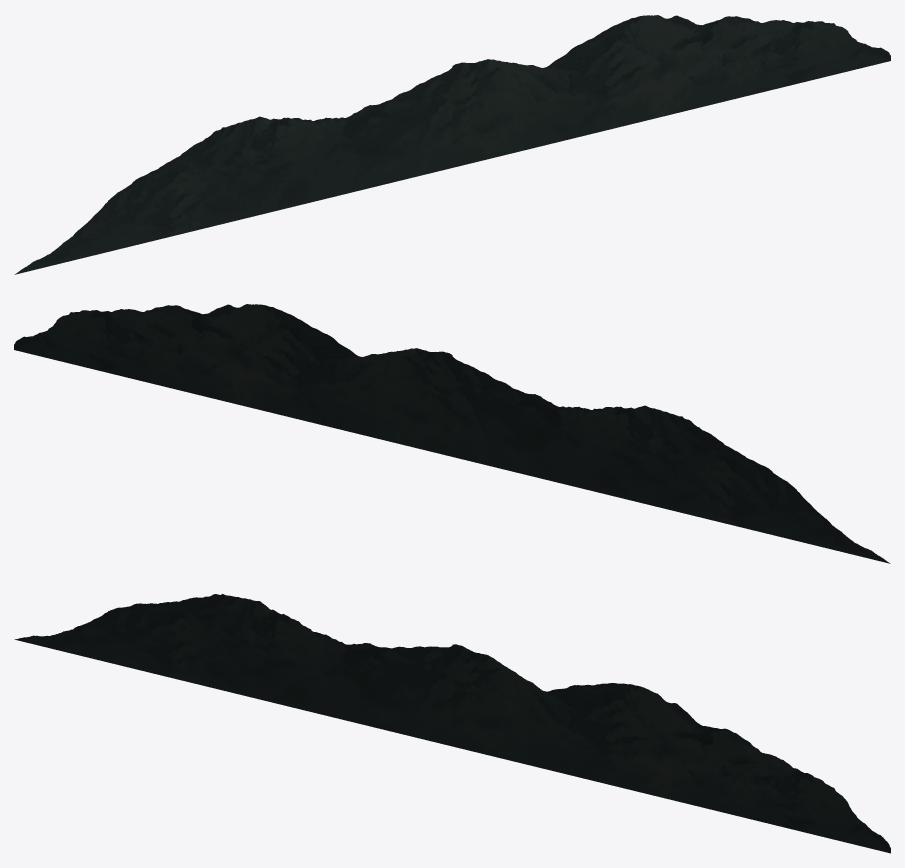
Rendered from Hill_Far1.fbx.
The picture shows the model from 3 angles, top to bottom: view 1: azimuth 30°, elevation 25°; view 2: azimuth 150°, elevation 25°; view 3: azimuth 330°, elevation 25°; orthographic projection.
Visible parts, largest first — view 1: SM_d_109_far_hill_01a; view 2: SM_d_109_far_hill_01a; view 3: SM_d_109_far_hill_01a.
Part boxes in pixels (x1=…): SM_d_109_far_hill_01a: x1=14, y1=15, x2=890, y2=274; SM_d_109_far_hill_01a: x1=14, y1=304, x2=890, y2=563; SM_d_109_far_hill_01a: x1=14, y1=594, x2=890, y2=853.
Bounding box in the file's own units: 36000 × 4227 × 2.11e-20.
